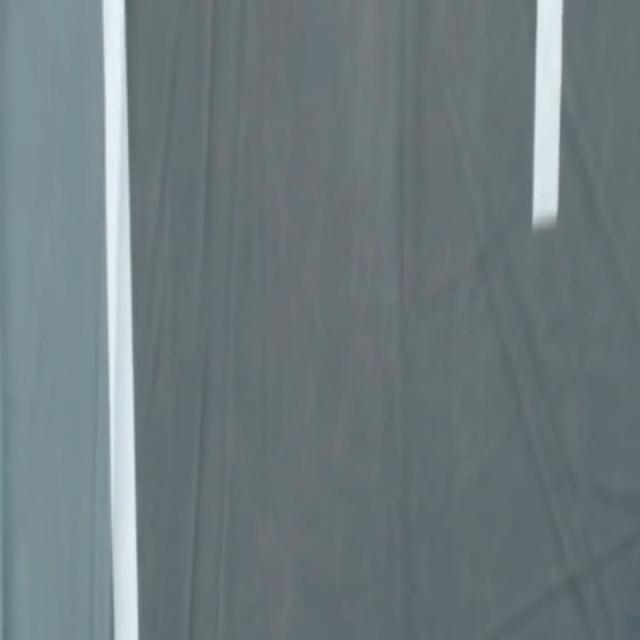center: (532, 0, 563, 230)
left: (102, 0, 138, 639)
